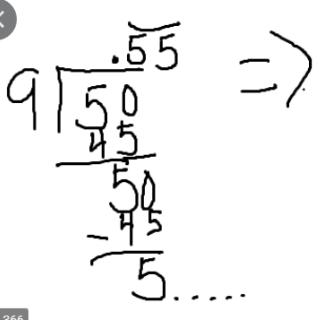.: (109, 54, 122, 67)
0: (139, 167, 156, 210)
4: (86, 127, 108, 160), (117, 211, 137, 247)
5: (154, 30, 182, 73), (116, 115, 139, 156), (125, 30, 150, 66)
9: (4, 66, 44, 133)
